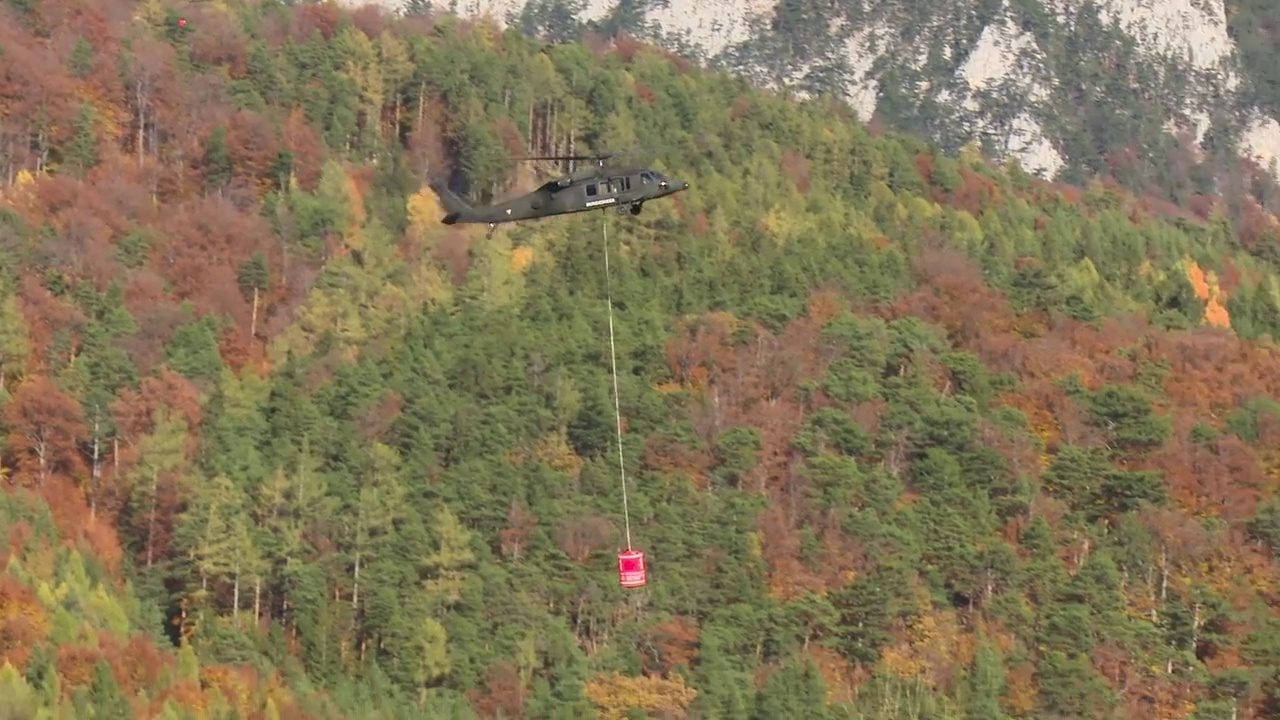heli: (433, 150, 690, 227)
